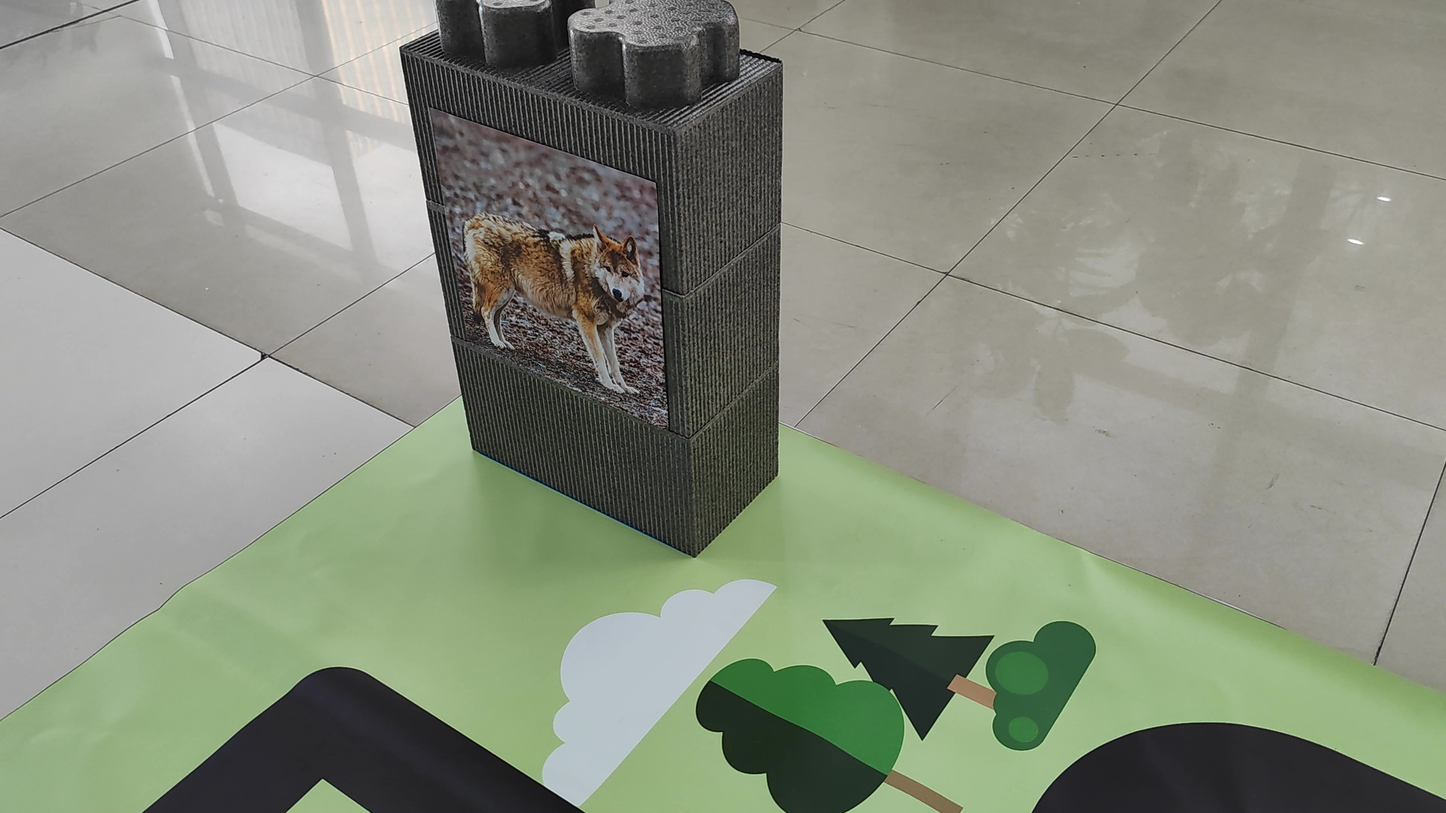wolf: (456, 186, 668, 397)
